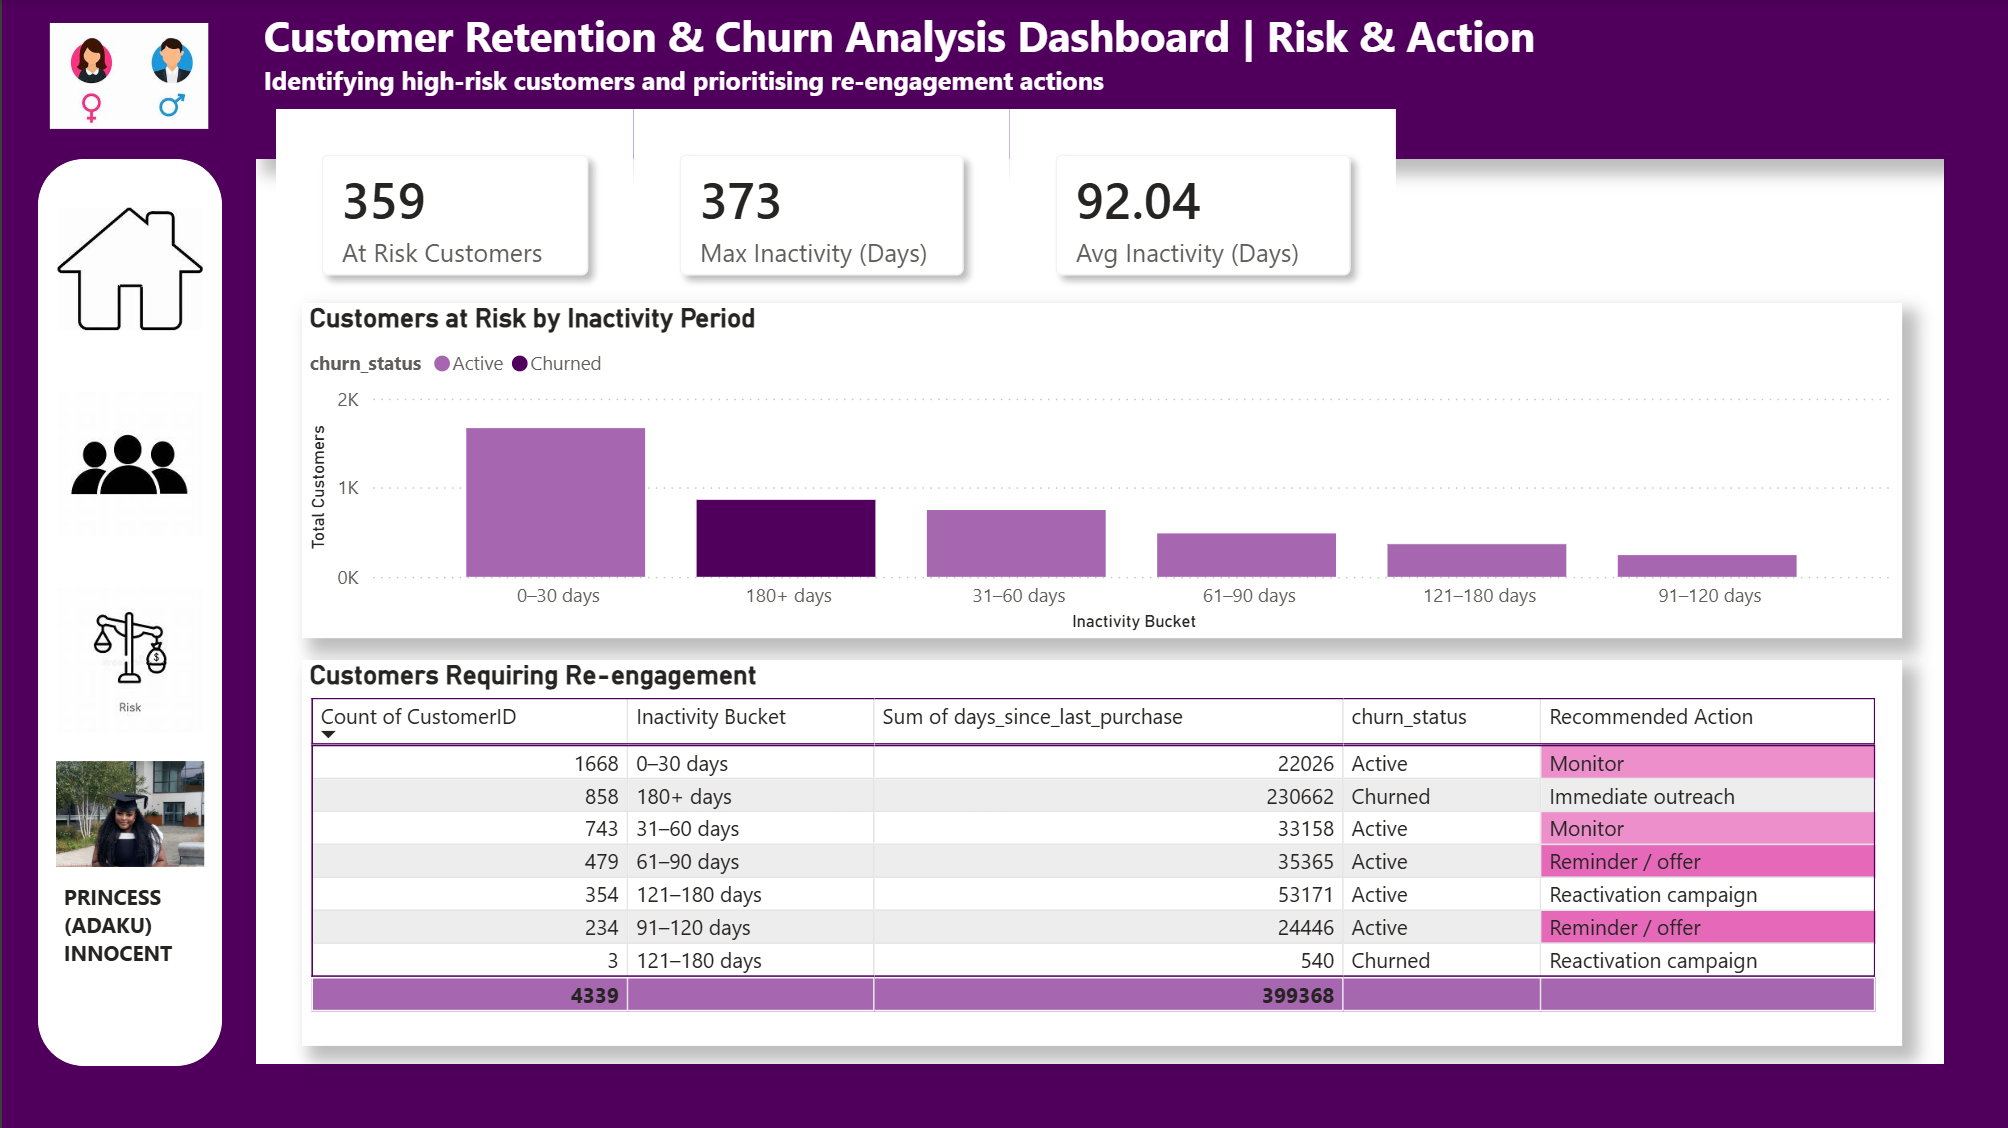

What the dashboard file says about the page in this screenshot:
{"tool":"powerbi","page":{"name":"Risk & Action","canvas":[1280,720],"ordinal":2},"visuals":[{"type":"textbox","box":[161.9,0,1077.3,102],"z":0},{"type":"shape","box":[0,0,161.9,720.3],"z":1000},{"type":"shape","box":[161.9,677.9,1077.3,42.1],"z":2000},{"type":"shape","box":[1237.9,0,42.1,720.3],"z":3000},{"type":"shape","box":[22.9,102,117.3,577.5],"z":4000},{"type":"image","box":[34.4,118.6,94.3,107.1],"z":5000},{"type":"image","box":[34.4,244.8,94.3,103.3],"z":6000},{"type":"image","box":[34.4,360.8,94.3,119.8],"z":7000},{"type":"image","box":[34.4,480.6,94.3,76.5],"z":8000},{"type":"textbox","box":[34.4,557.1,94.3,73.9],"z":9000},{"type":"cardVisual","fields":{"Data":["customer_churn_180days.At Risk Customers"]},"box":[174.7,70.1,228.2,135.1],"z":10000},{"type":"cardVisual","fields":{"Data":["customer_churn_180days.Avg Days Since Last Purchase"]},"box":[642.5,70.1,246.1,135.1],"z":11000},{"type":"cardVisual","fields":{"Data":["customer_churn_180days.Max Inactivity (Days)"]},"box":[402.9,70.1,239.7,135.1],"z":12000},{"type":"columnChart","title":"Customers at Risk by Inactivity Period","fields":{"Category":["customer_churn_180days.Inactivity Bucket"],"Y":["customer_churn_180days.Total Customers"],"Series":["customer_churn_180days.churn_status"]},"box":[191.2,193.8,1019.9,212.9],"z":13000},{"type":"tableEx","title":"Customers Requiring Re-engagement","fields":{"Values":["CountNonNull(customer_churn_180days.CustomerID)","customer_churn_180days.Inactivity Bucket","Sum(customer_churn_180days.days_since_last_purchase)","customer_churn_180days.churn_status","customer_churn_180days.Recommended Action"]},"box":[191.2,420.7,1019.9,246.1],"z":14000},{"type":"image","box":[0,15.3,161.9,67.6],"z":14001}]}

Visuals, with their boxes in screenshot pixels (x1, y1, x2, y2), scaled from the page's 1280x720 canvas onto the 2008x1128 screenshot:
textbox: <box>254,0,1944,160</box>
shape: <box>0,0,254,1127</box>
shape: <box>254,1062,1944,1127</box>
shape: <box>1942,0,2007,1127</box>
shape: <box>36,160,220,1065</box>
image: <box>54,186,202,354</box>
image: <box>54,384,202,545</box>
image: <box>54,565,202,753</box>
image: <box>54,753,202,873</box>
textbox: <box>54,873,202,989</box>
cardVisual - customer_churn_180days.At Risk Customers: <box>274,110,632,321</box>
cardVisual - customer_churn_180days.Avg Days Since Last Purchase: <box>1008,110,1394,321</box>
cardVisual - customer_churn_180days.Max Inactivity (Days): <box>632,110,1008,321</box>
"Customers at Risk by Inactivity Period" columnChart: <box>300,304,1900,637</box>
"Customers Requiring Re-engagement" tableEx: <box>300,659,1900,1045</box>
image: <box>0,24,254,130</box>
